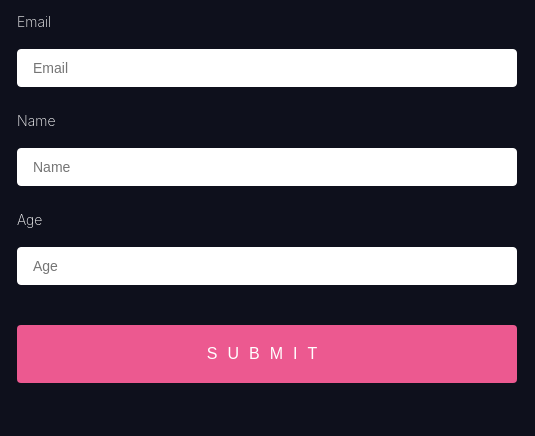
Test: validate name input › should show error when name field is empty
Type "ab" into the field with placeholder "Name".
click(267, 167); type("ab")  # box [17,148,517,186]
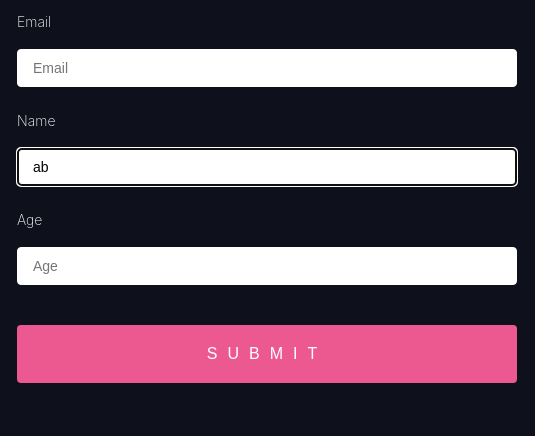
# Clicking on this component makes it active
Clear the field with placeholder "Name" at (267, 167), box [17,148,517,186]
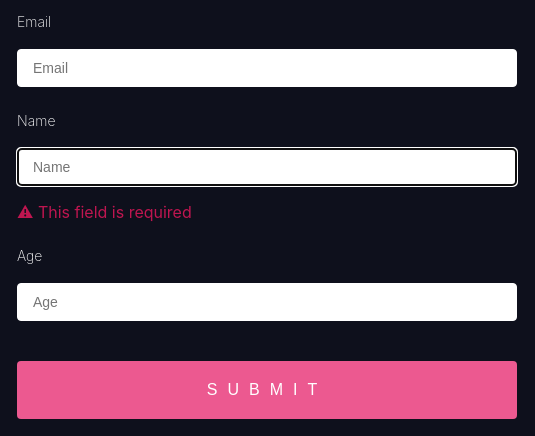
Result: the text "This field is required" is shown at [38,202,192,222]
